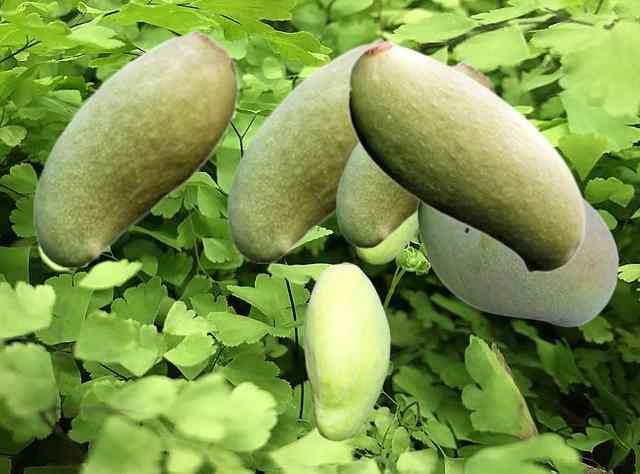green_mango: (347, 38, 585, 273), (32, 28, 238, 267), (226, 37, 387, 262), (335, 60, 496, 247), (416, 198, 618, 326), (303, 262, 389, 440), (354, 216, 416, 263)
